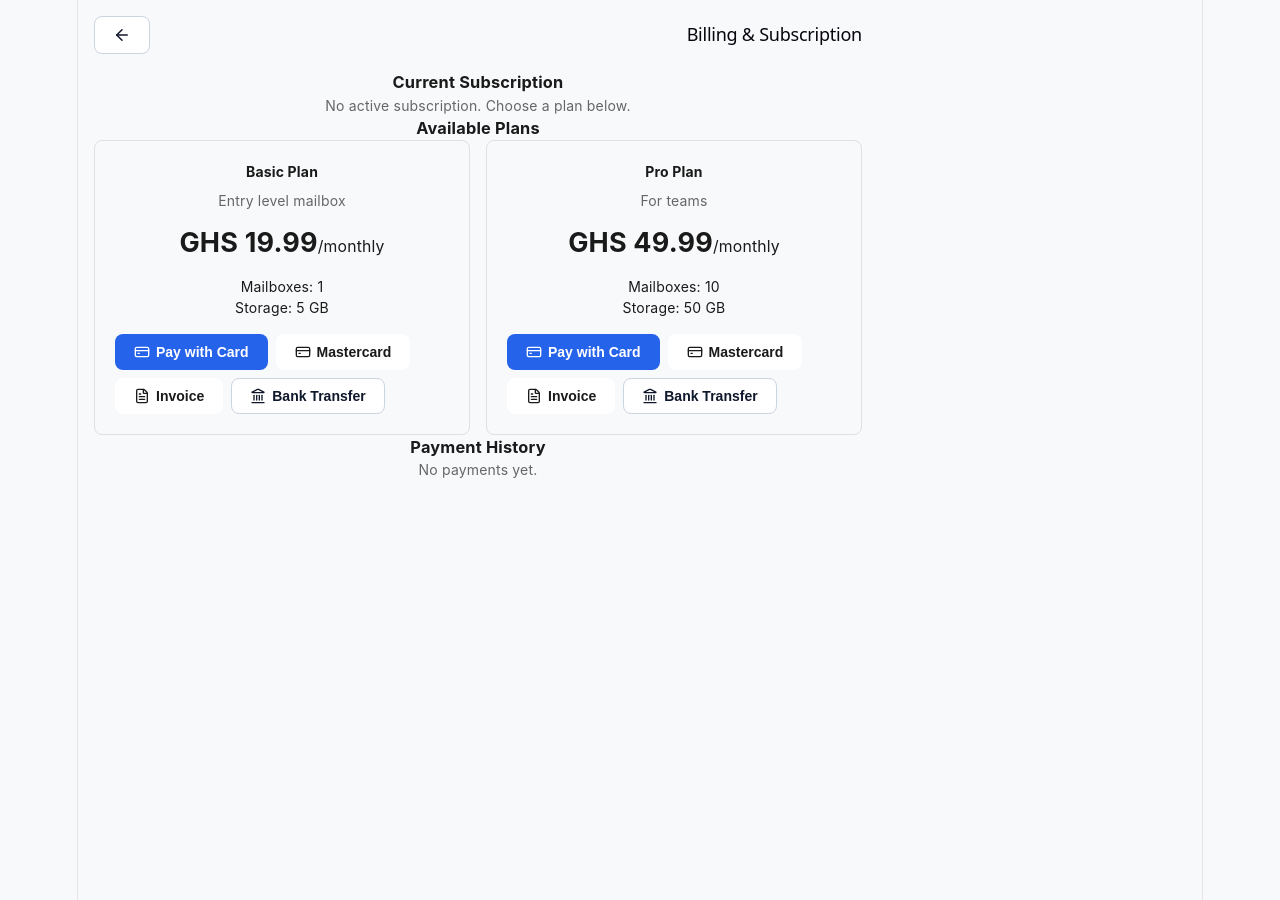
Scenario: BillingManager › shows inline instructions for mastercard mpgs session (no redirect)
Click the button with test id "pay-mastercard-plan-2".
click(735, 352)  # box [668, 334, 802, 370]
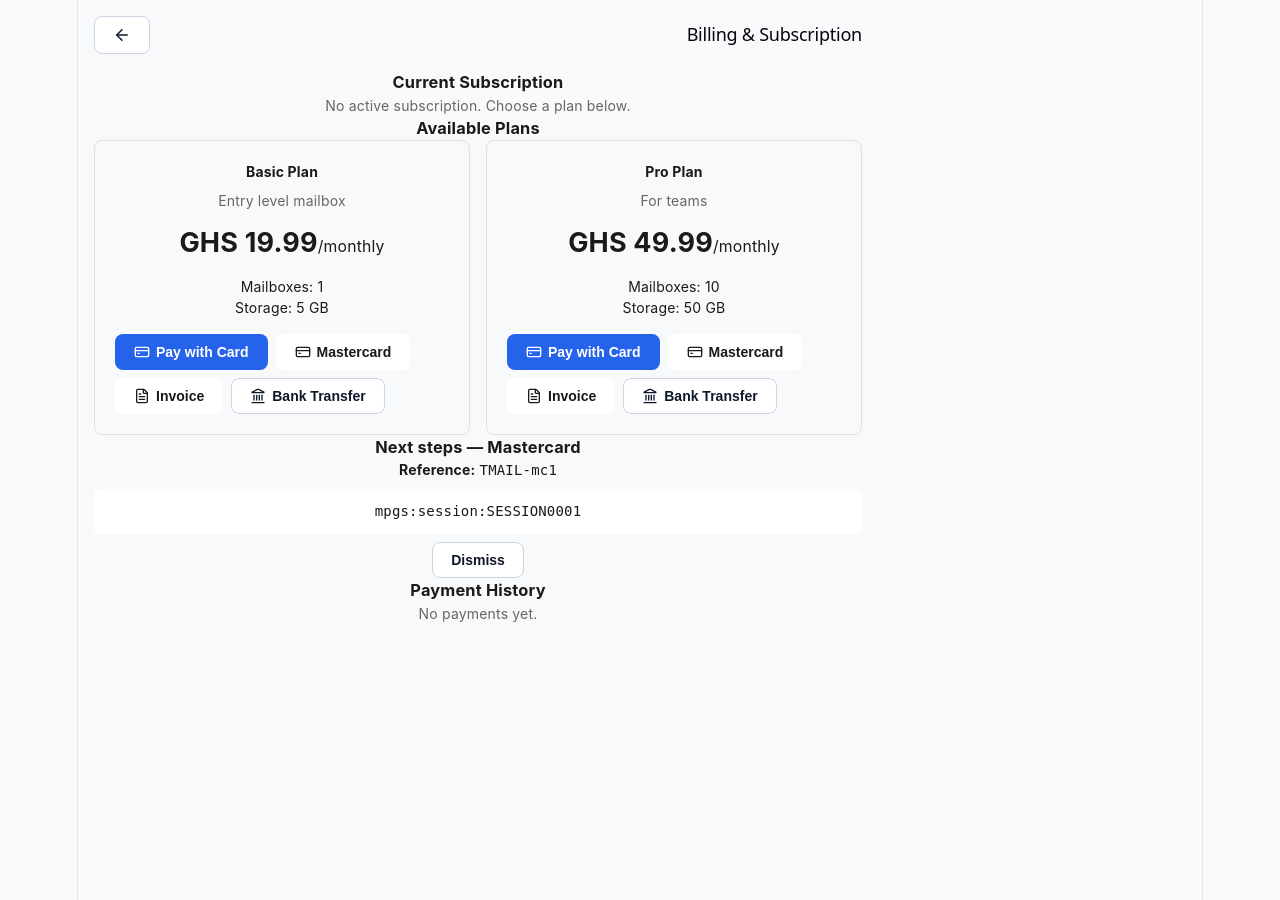
Now the element with test id "payment-instructions" is shown, box [94, 435, 862, 578]
Now the element with test id "payment-instructions" shows "Mastercard", box [487, 437, 581, 457]
Now the element with test id "payment-instructions" shows "TMAIL-mc1", box [480, 462, 557, 478]
